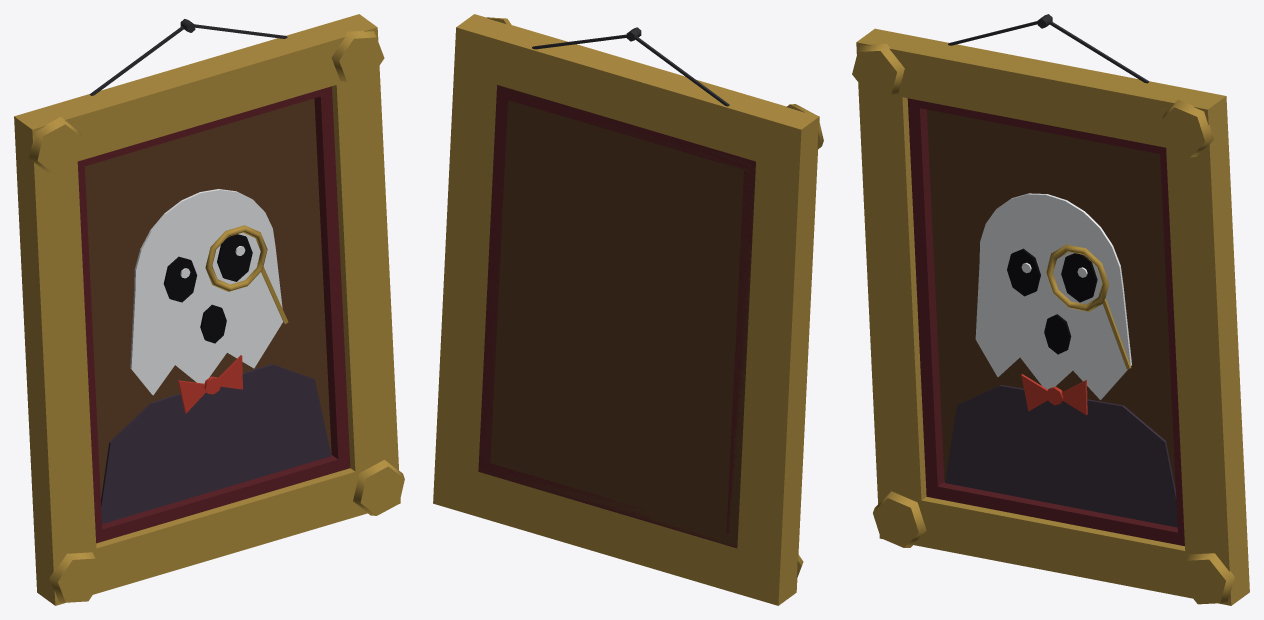
The model's file is Schilderij.glb.
3 renders of one model, left to right at view 1: azimuth 30°, elevation 25°; view 2: azimuth 150°, elevation 25°; view 3: azimuth 330°, elevation 25°, orthographic.
Parts seen in each view (by area): view 1: Frame, Canvas, Coat, GhostHead, InnerLip, Face, Monocle, BowTie, Wire; view 2: Canvas, Frame, InnerLip, Wire; view 3: Frame, Canvas, Coat, GhostHead, InnerLip, Face, Monocle, BowTie, Wire.
Boxes of the visible parts, x1,y1,x2,y2 form: Frame: (14,14,404,605); Canvas: (84,98,331,497); Coat: (101,364,331,523); GhostHead: (130,189,283,395); InnerLip: (77,86,350,543); Face: (163,234,252,343); Monocle: (205,225,288,324); BowTie: (177,355,242,413); Wire: (90,24,287,95); Canvas: (478,85,755,548); Frame: (433,14,823,605); InnerLip: (478,85,755,547); Wire: (532,34,729,106); Frame: (852,28,1249,605); Canvas: (927,109,1175,489); Coat: (945,385,1177,527); GhostHead: (975,193,1131,399); InnerLip: (907,98,1184,546); Face: (1007,248,1097,354); Monocle: (1046,244,1131,369); BowTie: (1021,374,1087,415); Wire: (948,21,1149,83).
Size of the model in its own units: 0.6492 by 0.8958 by 0.069.
